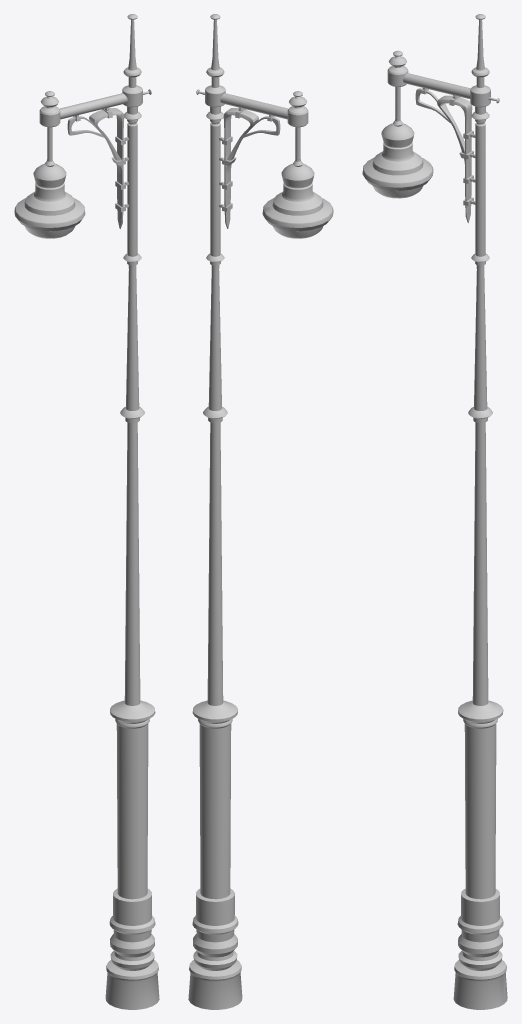
File: lampara.obj
3 views of the same model, side by side, from view 1: azimuth 30°, elevation 25°; view 2: azimuth 150°, elevation 25°; view 3: azimuth 330°, elevation 25° (orthographic).
Visible parts, largest first — view 1: pCylinder14; view 2: pCylinder14; view 3: pCylinder14.
Part boxes in pixels (box(x1,y1,x2,y2)): pCylinder14: box(14, 14, 159, 1009); pCylinder14: box(188, 14, 333, 1009); pCylinder14: box(362, 14, 507, 1009).
Bounding box in the file's own units: 4.27 × 29.27 × 1.93.
